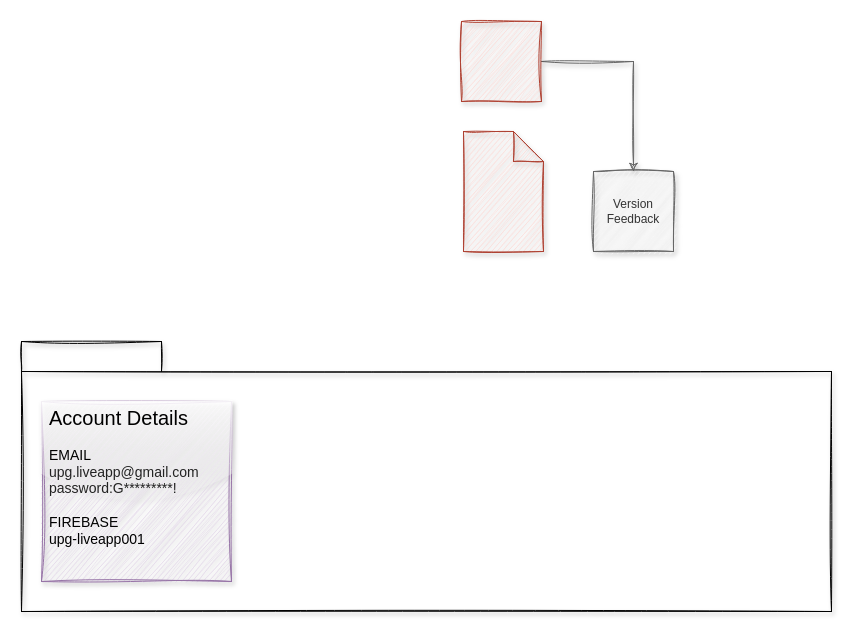
This 855x636 diagram has some shape labels left out. The centre of each missing label's shape, as x and y in pixels:
Camera Notification Appearance Language: the point at 504,192
Settings: the point at 502,62
